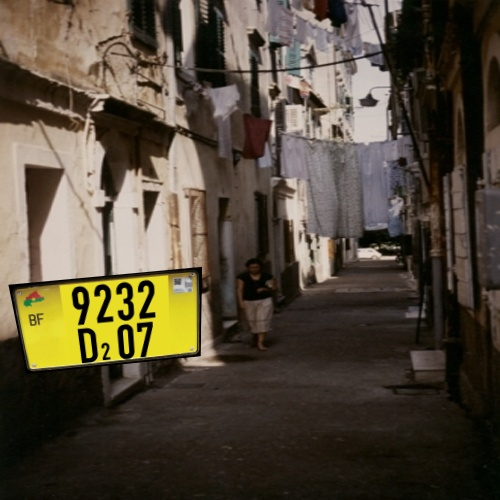plate: (6, 258, 209, 375)
